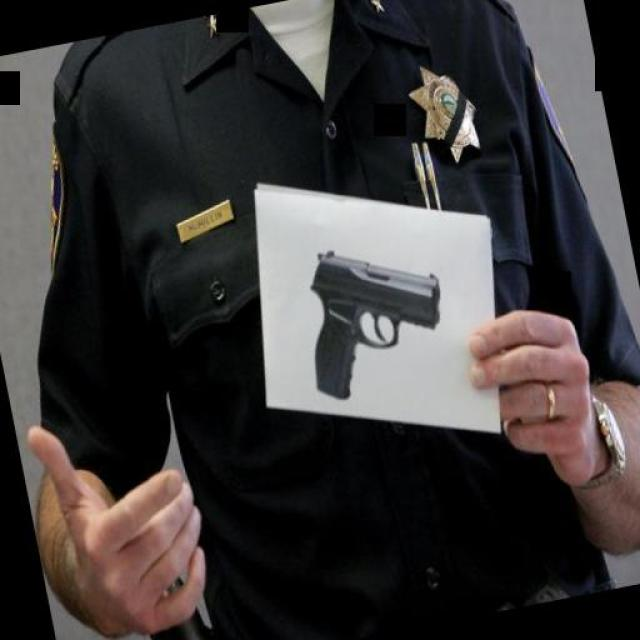gun: (278, 219, 458, 411)
